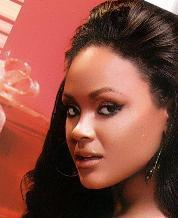face: (61, 92, 123, 168)
